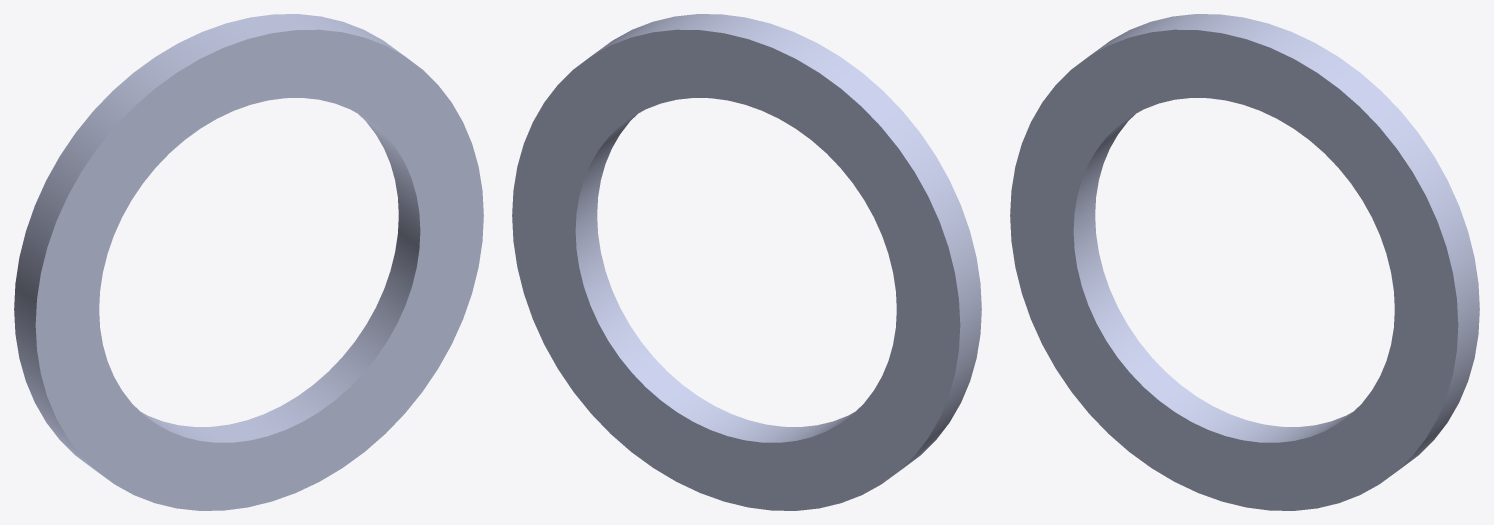
The model's file is Flexion Tendon Pulley Spacer Shim.obj.
The picture shows the model from 3 angles, left to right: view 1: azimuth 30°, elevation 25°; view 2: azimuth 150°, elevation 25°; view 3: azimuth 330°, elevation 25°; orthographic projection.
Visible parts, largest first — view 1: mesh0, mesh1, mesh3; view 2: mesh2, mesh1, mesh3; view 3: mesh0, mesh1, mesh3.
Boxes of the visible parts, box(x1,y1,x2,y2) form: mesh0: box(35, 29, 483, 510); mesh1: box(14, 14, 403, 479); mesh3: box(141, 114, 420, 442); mesh2: box(512, 29, 960, 510); mesh1: box(592, 14, 981, 479); mesh3: box(575, 114, 854, 442); mesh0: box(1010, 29, 1458, 510); mesh1: box(1090, 14, 1479, 479); mesh3: box(1073, 114, 1352, 442).
Size of the model in its own units: 0.006 by 0.00599 by 0.0005.
